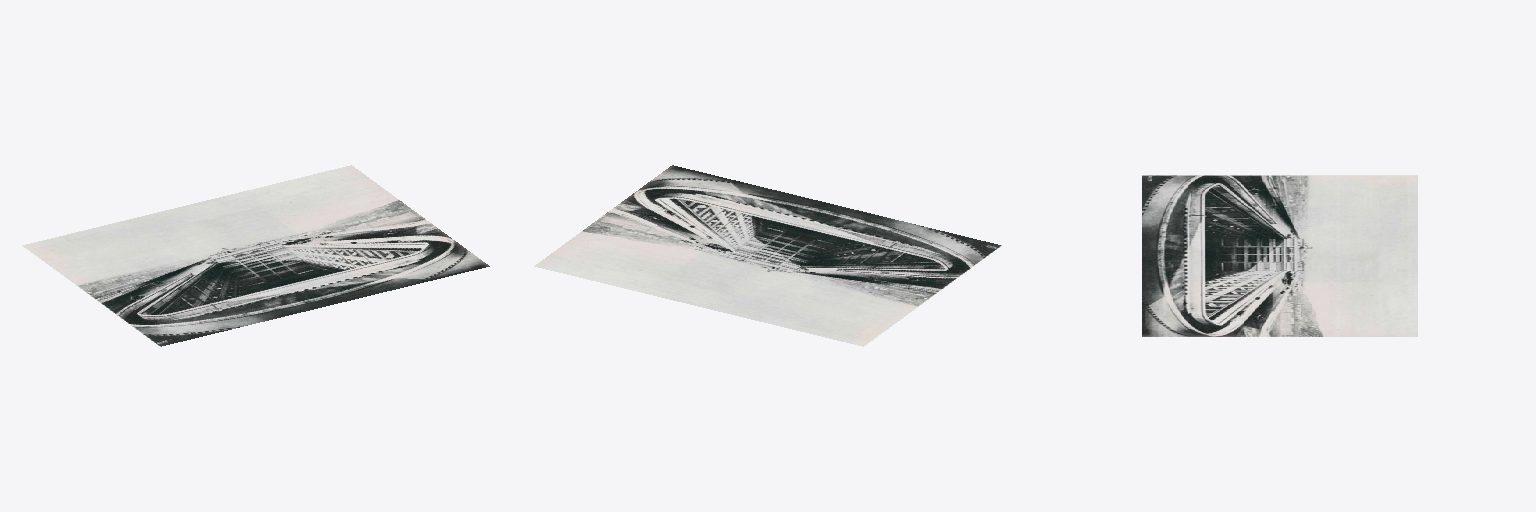
3 renders of one model, left to right at view 1: azimuth 30°, elevation 25°; view 2: azimuth 150°, elevation 25°; view 3: azimuth 270°, elevation 25°, orthographic.
Visible parts, largest first — view 1: Plane001; view 2: Plane001; view 3: Plane001.
Part boxes in pixels (x1,y1,x2,y2): Plane001: (22, 165, 489, 346); Plane001: (534, 165, 1001, 346); Plane001: (1142, 175, 1417, 336).
Bounding box in the file's own units: 4.07 × 0 × 2.96.
Materials: 1 (1 with a texture image).